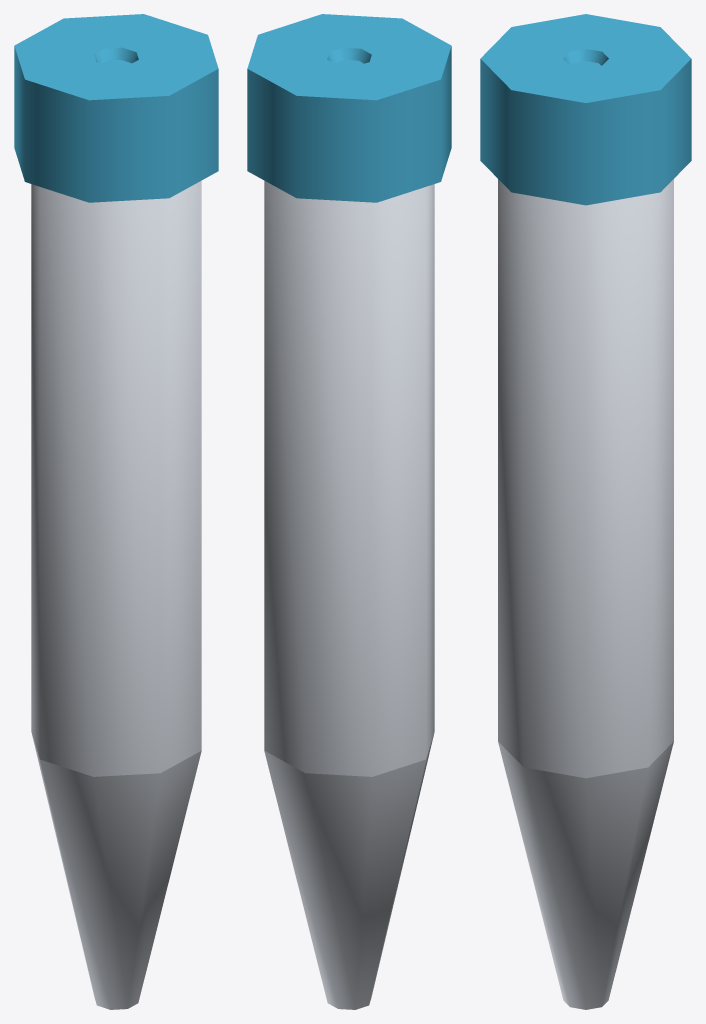
The model's file is bottle_glassware_centrifuge_tube_003.fbx.
3 views of the same model, side by side, from view 1: azimuth 30°, elevation 25°; view 2: azimuth 150°, elevation 25°; view 3: azimuth 270°, elevation 25° (orthographic).
Parts seen in each view (by area): view 1: bottle_glassware_centrifuge_tube.003, bottle_glassware_centrifuge_tube_cap.003; view 2: bottle_glassware_centrifuge_tube.003, bottle_glassware_centrifuge_tube_cap.003; view 3: bottle_glassware_centrifuge_tube.003, bottle_glassware_centrifuge_tube_cap.003.
Part boxes in pixels (bbox=[...]): bottle_glassware_centrifuge_tube.003: bbox=[31, 180, 201, 1009]; bottle_glassware_centrifuge_tube_cap.003: bbox=[14, 14, 218, 202]; bottle_glassware_centrifuge_tube.003: bbox=[264, 180, 434, 1009]; bottle_glassware_centrifuge_tube_cap.003: bbox=[247, 14, 451, 202]; bottle_glassware_centrifuge_tube.003: bbox=[498, 179, 673, 1009]; bottle_glassware_centrifuge_tube_cap.003: bbox=[480, 14, 691, 205].
Bounding box in the file's own units: 331 × 1629 × 331.
Materials: 2 (2 with a texture image).
